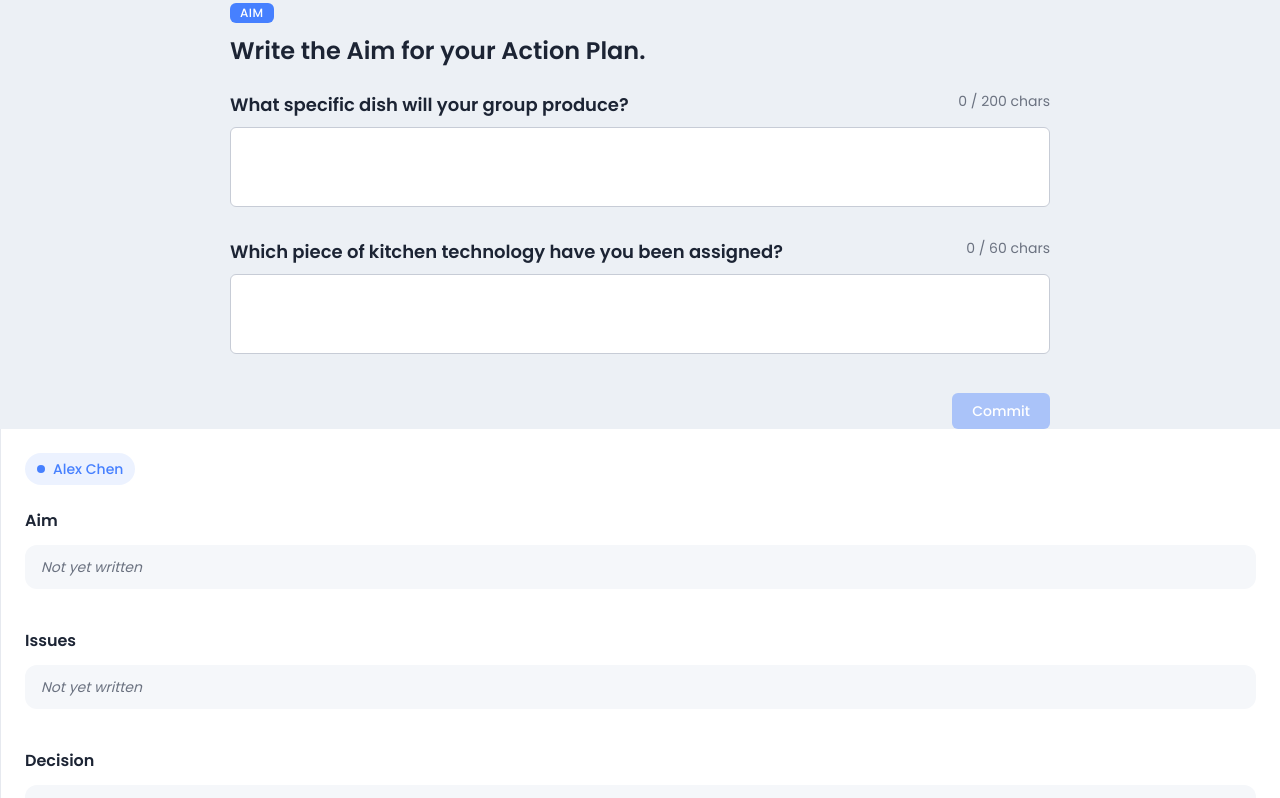
Test: SlideScaffold — rendering › commit button is enabled when all prompts have values
This screenshot has width=1280, height=798.
Type "vanilla custard French toast" into the text box labelled "What specific dish will your group produce?" at (640, 167), box [230,127,1050,207]
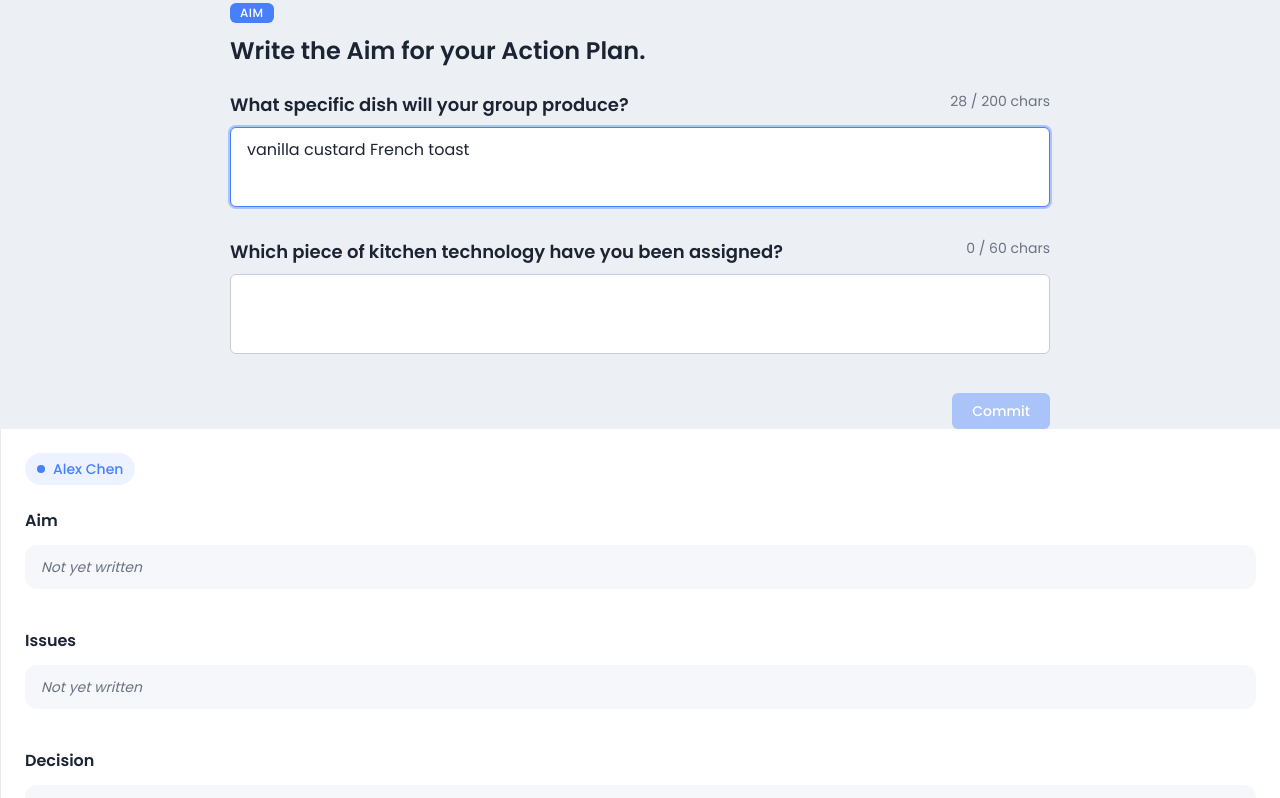
Type "Thermomix" into the text box labelled "Which piece of kitchen technology have you been assigned?" at (640, 314), box [230,274,1050,354]
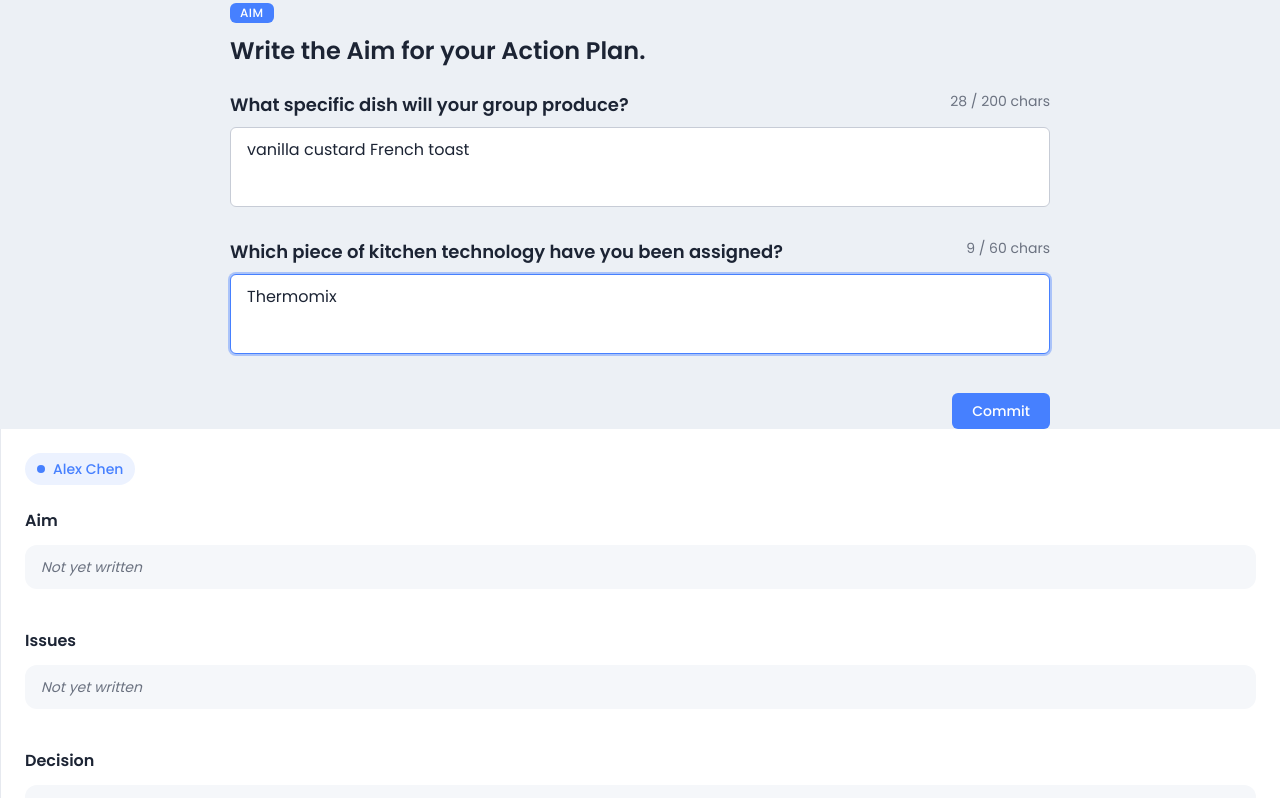
Now the button "Commit" is enabled, box [952,393,1050,429]
